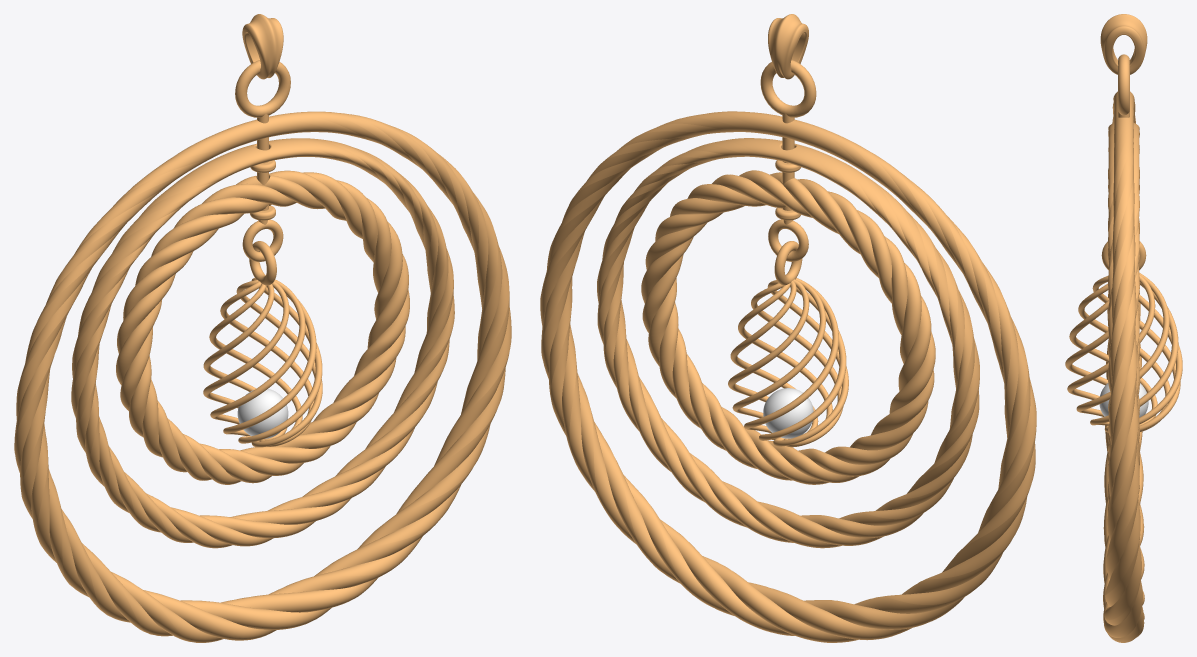
Rendered from Pearl-Animation.glb.
3 views of the same model, side by side, from view 1: azimuth 30°, elevation 25°; view 2: azimuth 150°, elevation 25°; view 3: azimuth 270°, elevation 25° (orthographic). The views are drawn at different scales.
Parts seen in each view (by area): view 1: uploads_files_4596928_galaxy3dm; view 2: uploads_files_4596928_galaxy3dm; view 3: uploads_files_4596928_galaxy3dm.
Part boxes in pixels (left/top/right/bottom): uploads_files_4596928_galaxy3dm: left=14, top=14, right=511, bottom=642; uploads_files_4596928_galaxy3dm: left=540, top=14, right=1036, bottom=642; uploads_files_4596928_galaxy3dm: left=1065, top=14, right=1182, bottom=642.
Bounding box in the file's own units: 2.54 × 3.04 × 0.5378.
